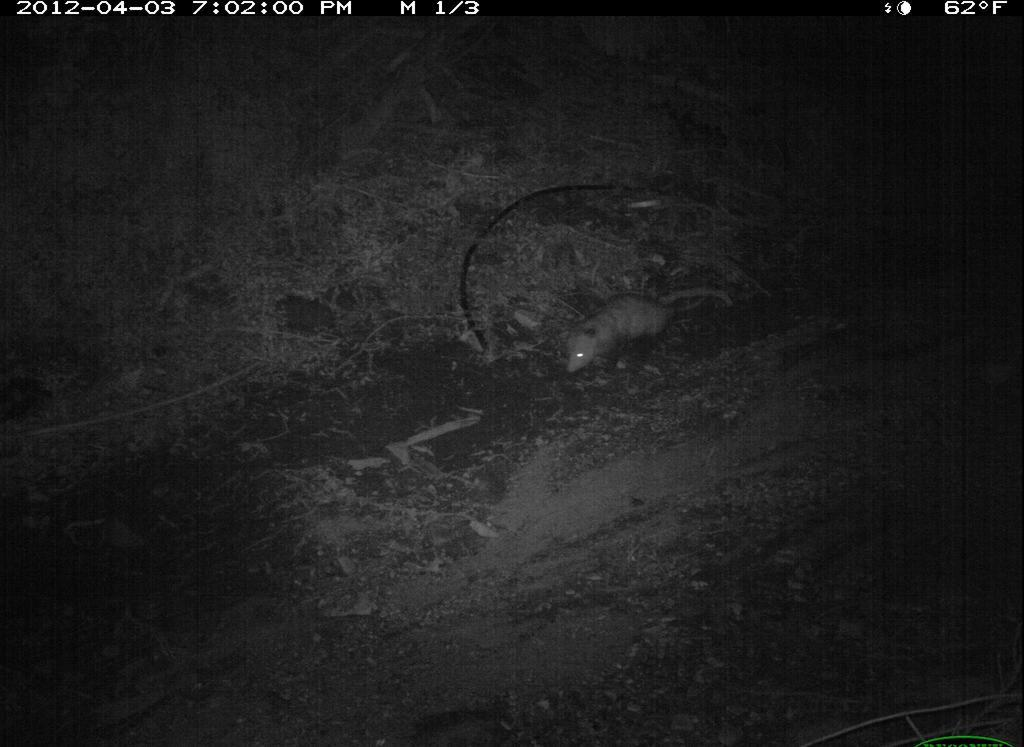opossum: (543, 272, 742, 383)
